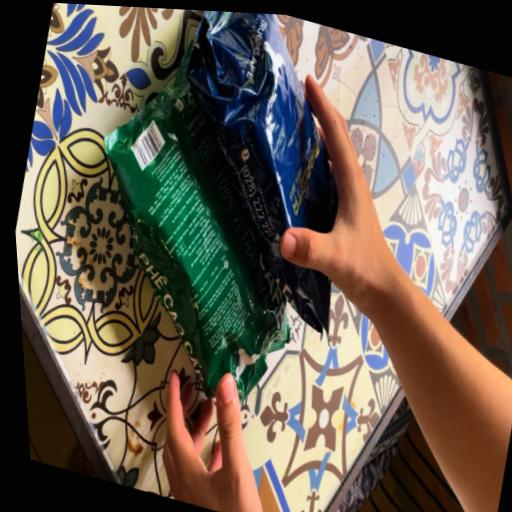cafe_hat: (186, 11, 337, 332)
cafe_xay: (104, 95, 288, 398)
